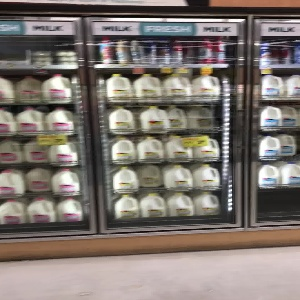void: (258, 190, 300, 214)
